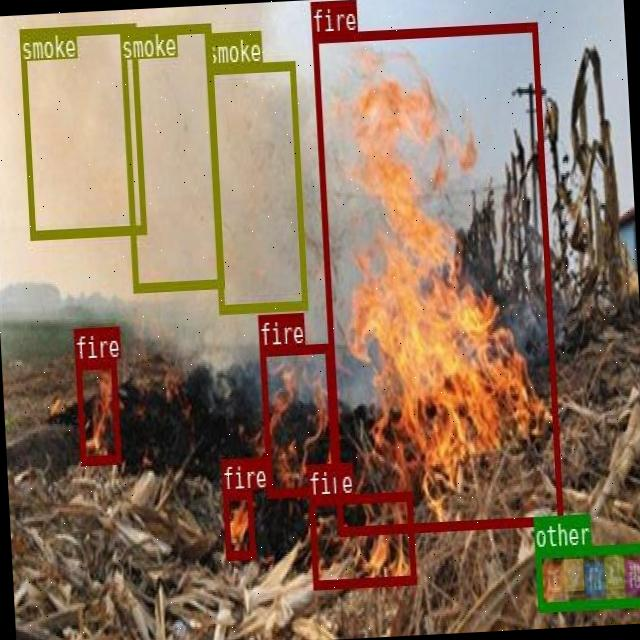fire: (312, 22, 563, 534), (259, 343, 336, 495), (308, 490, 416, 588), (75, 358, 120, 464), (222, 489, 255, 558)
smoke: (118, 22, 224, 290), (18, 21, 146, 238), (205, 60, 308, 312)
